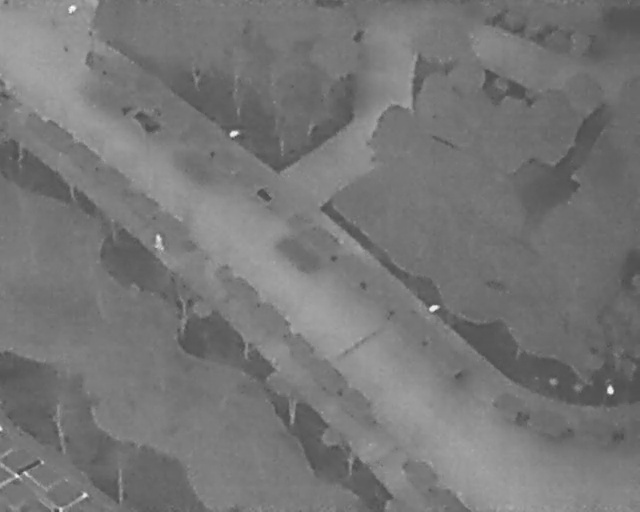Person: (153, 231, 166, 251)
